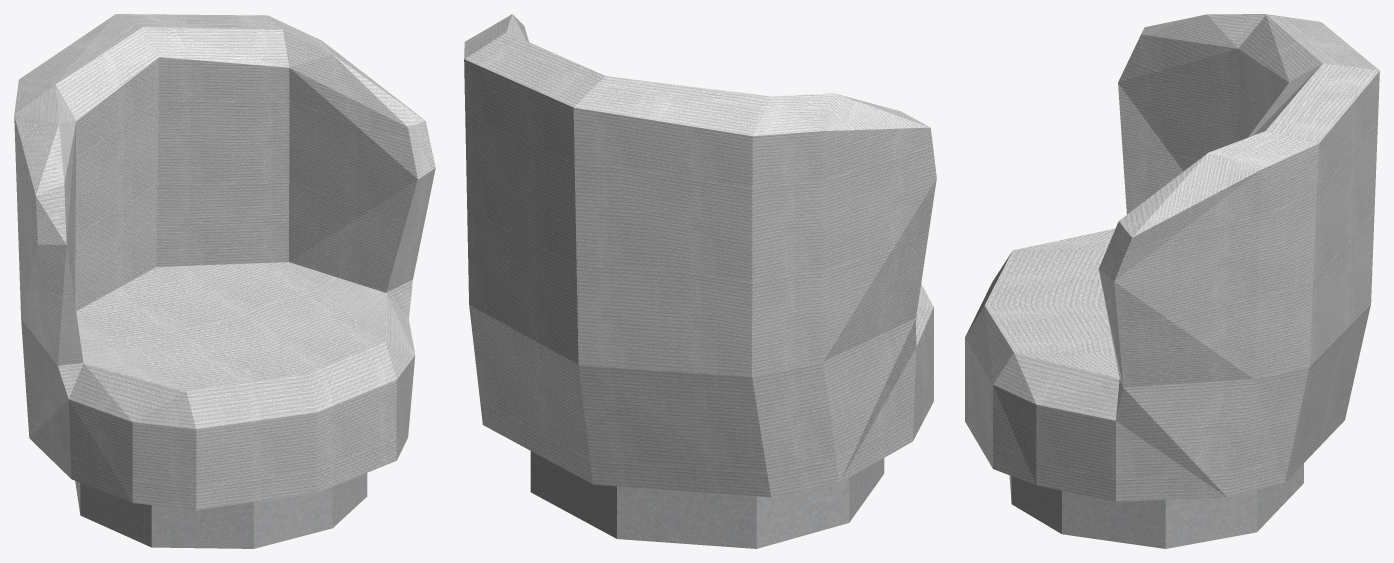
Rendered from frn_all_mdrn_sofa_chair_s01_l1.fbx.
3 views of the same model, side by side, from view 1: azimuth 30°, elevation 25°; view 2: azimuth 150°, elevation 25°; view 3: azimuth 270°, elevation 25° (orthographic). The views are drawn at different scales.
Parts seen in each view (by area): view 1: mesh_node; view 2: mesh_node; view 3: mesh_node.
Part boxes in pixels (left/top/right/bottom): mesh_node: left=14, top=14, right=435, bottom=548; mesh_node: left=464, top=14, right=936, bottom=548; mesh_node: left=965, top=14, right=1379, bottom=548.
Size of the model in its own units: 1.19 by 1.18 by 1.05.
